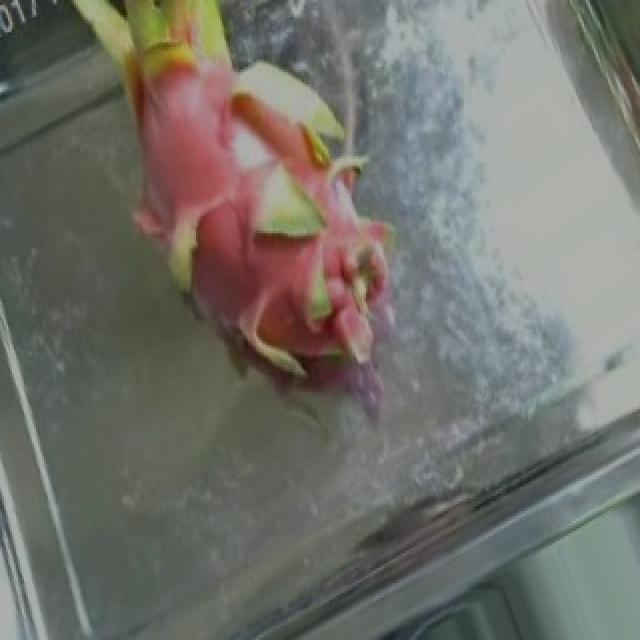fruit: (16, 0, 446, 434)
